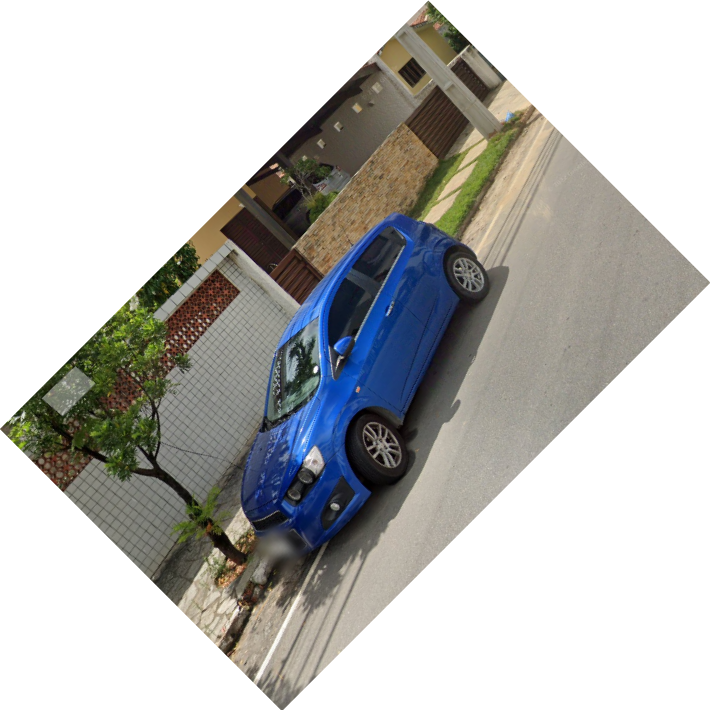car: (237, 209, 496, 567)
